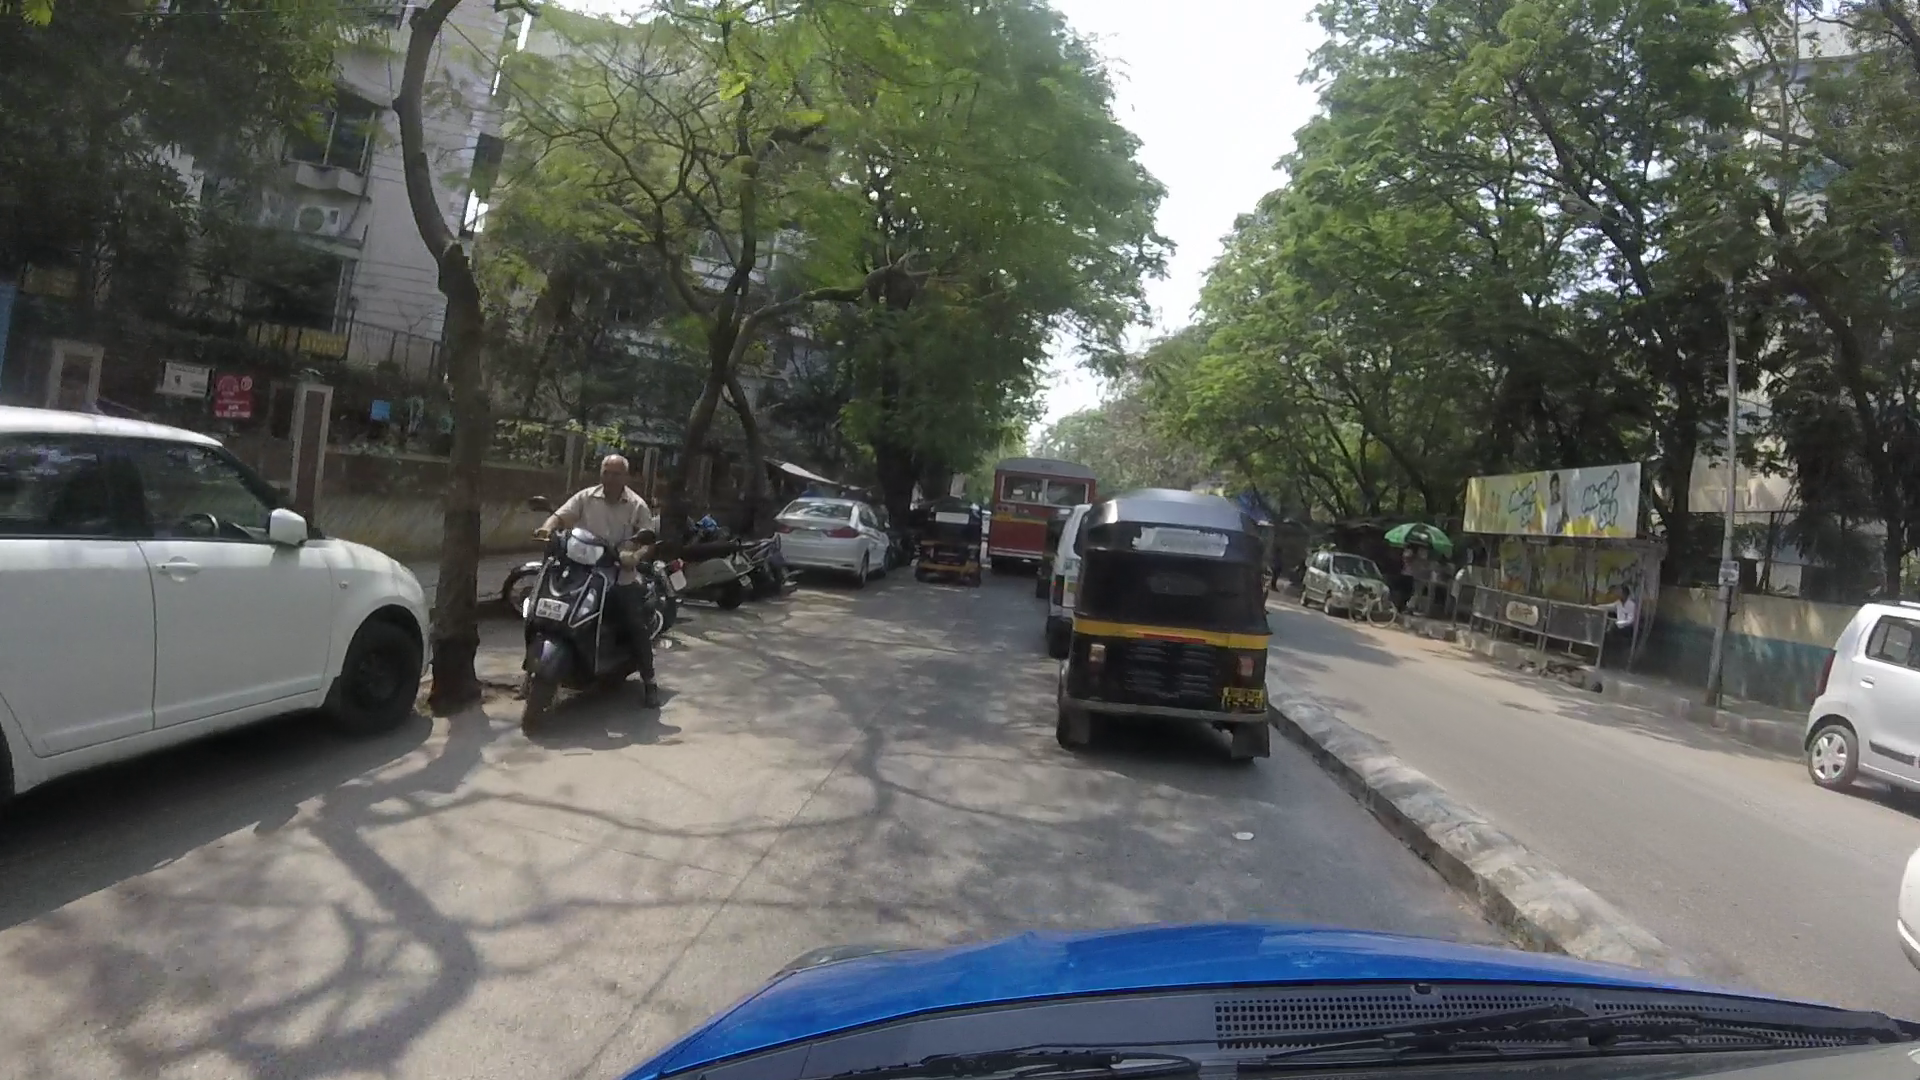bike/scooter: (521, 425, 702, 754)
bus: (989, 442, 1092, 568)
car: (7, 375, 444, 800), (1801, 582, 1920, 806), (781, 472, 886, 611)
rickshaw: (1060, 484, 1283, 752), (910, 477, 982, 601)
